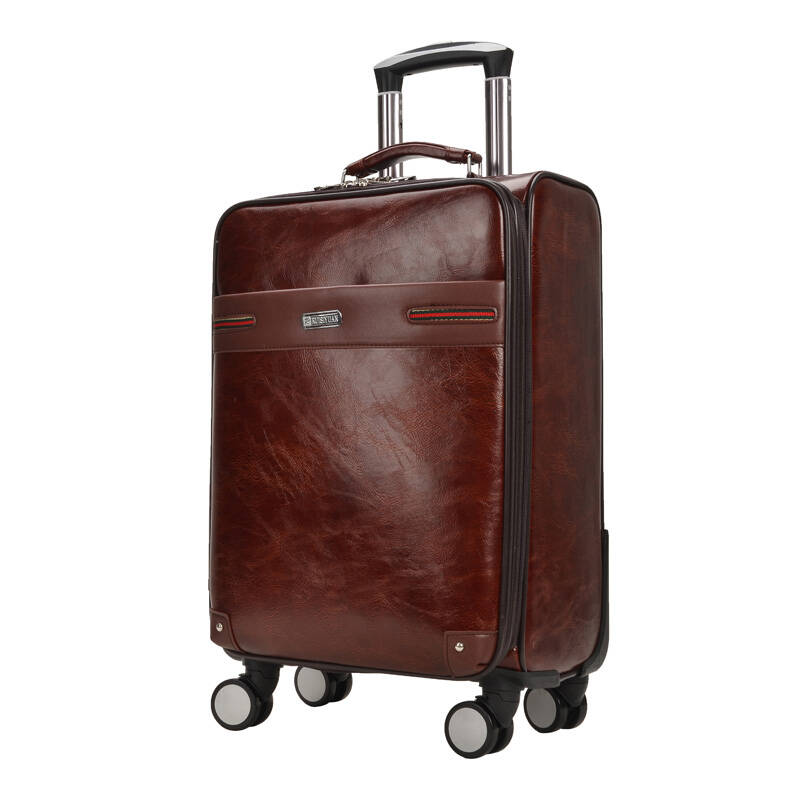luggage: (204, 40, 611, 760)
